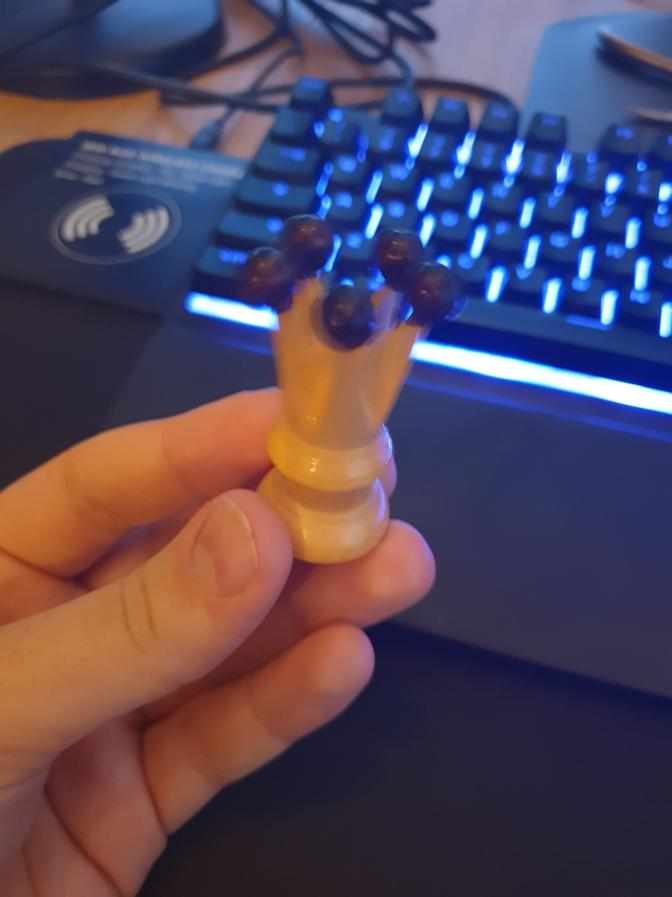wqueen: (242, 217, 456, 568)
